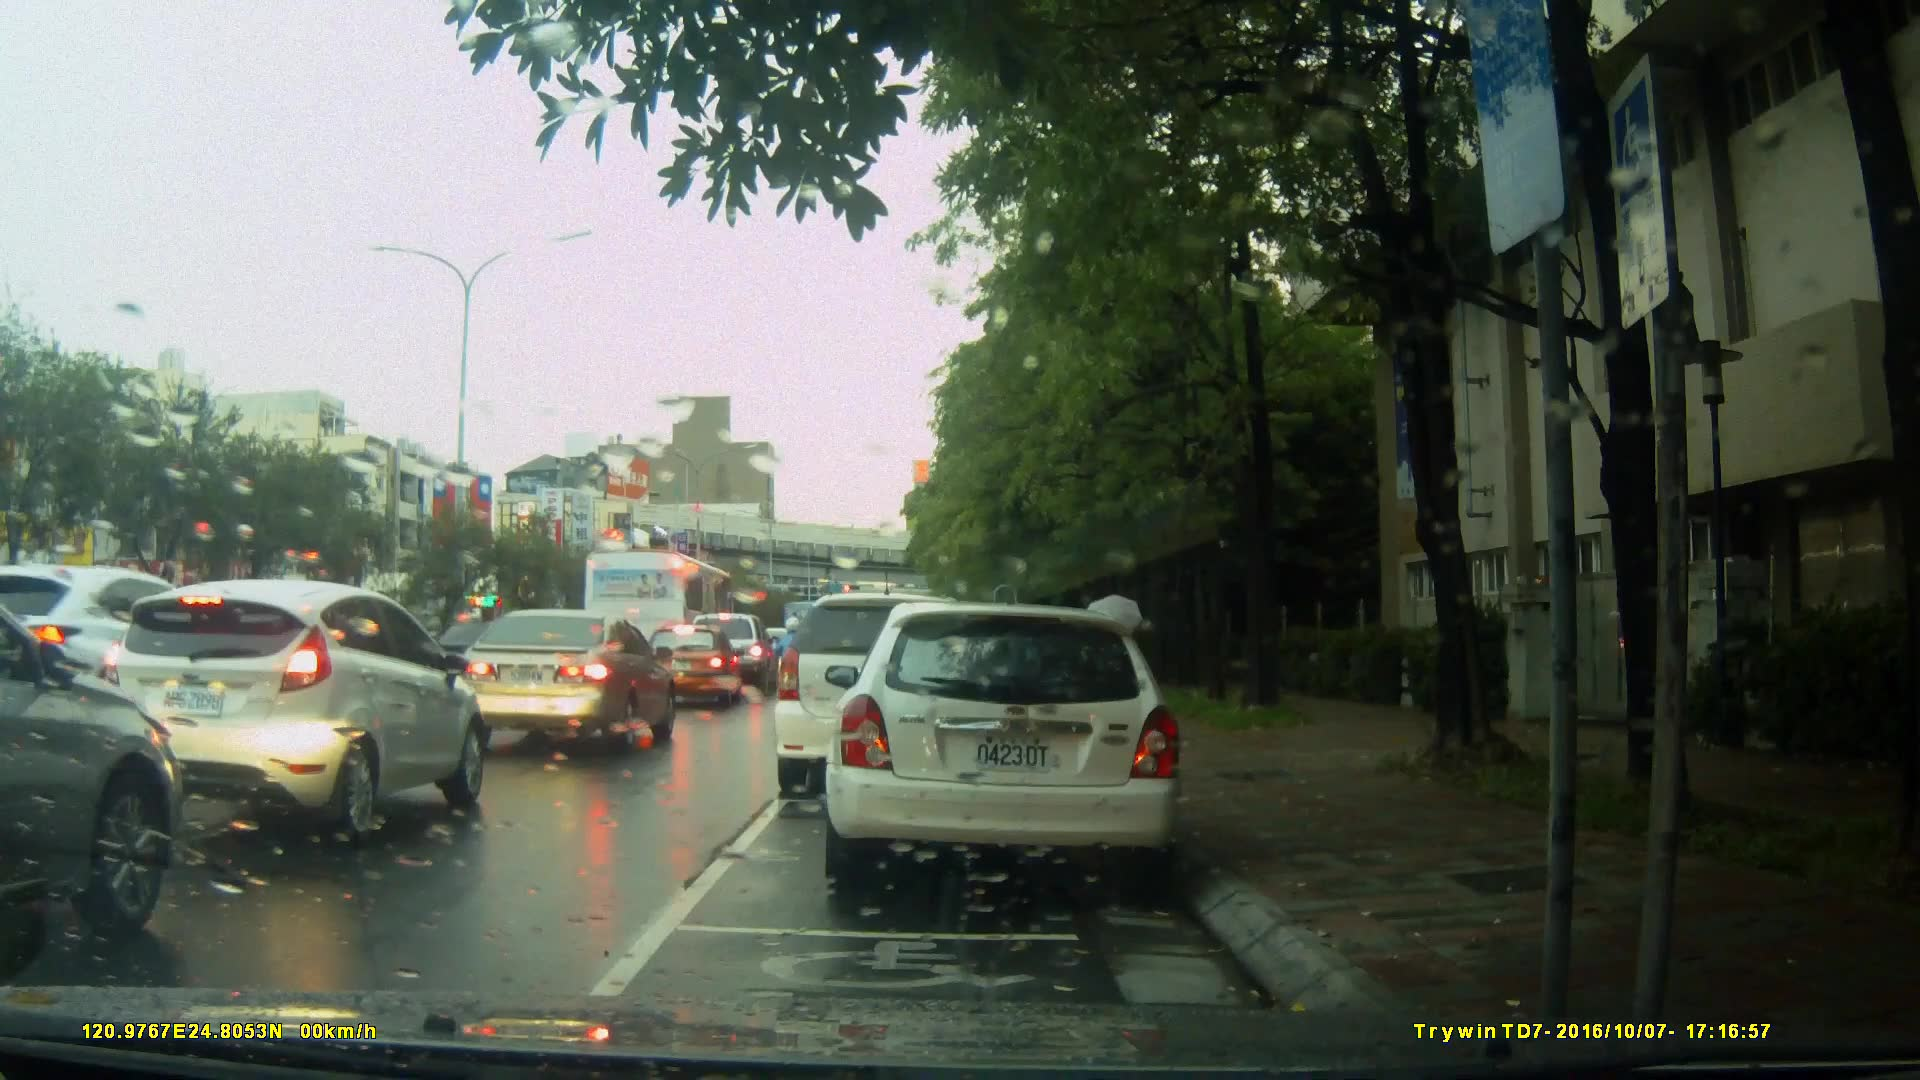vehicle: (835, 593, 1193, 898), (102, 579, 489, 844), (1, 547, 185, 971), (775, 589, 1026, 785), (454, 608, 679, 756), (7, 560, 200, 731), (583, 547, 737, 673), (640, 624, 742, 709)
